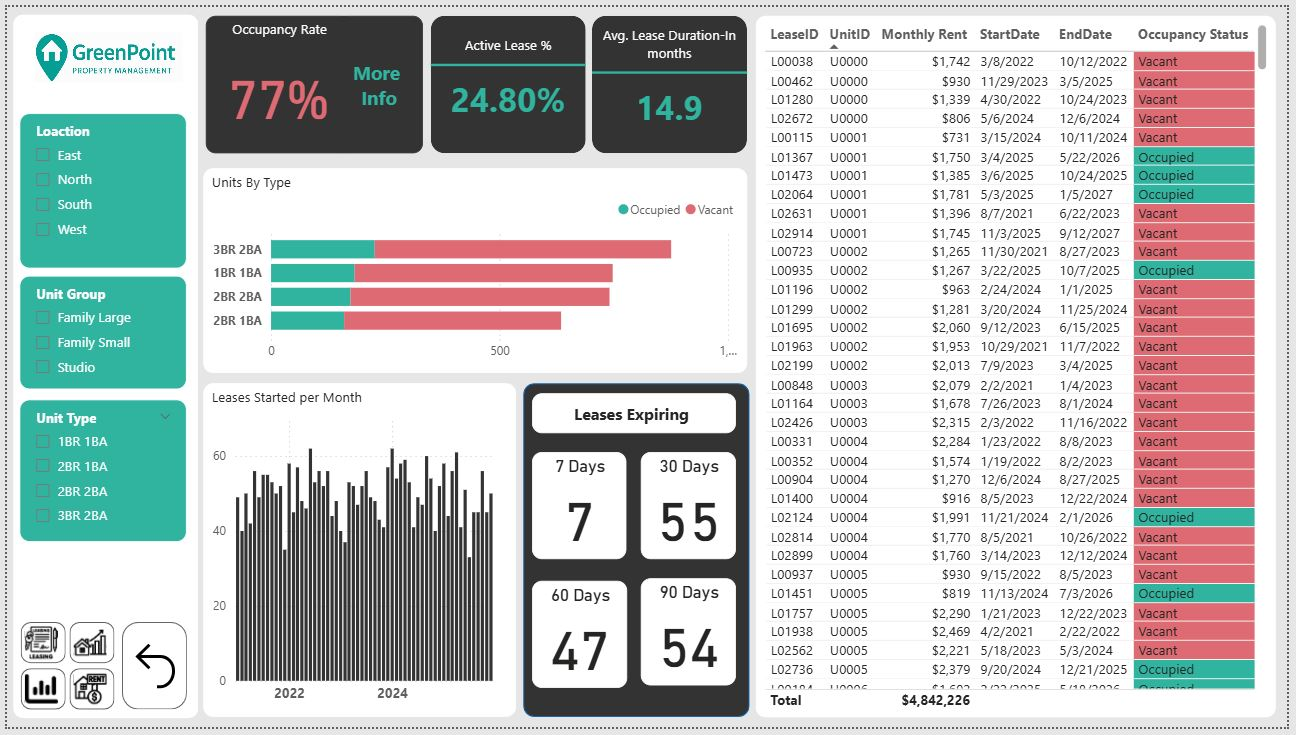

This screenshot's page, from the dashboard's own definition file:
{"tool":"powerbi","page":{"name":"Leasing Activity & Occupancy","canvas":[1280,720],"ordinal":2},"visuals":[{"type":"shape","box":[516.2,376.2,226.2,333.8],"z":0},{"type":"barChart","title":"Units By Type","fields":{"Category":["Units.UnitType"],"Y":["CountNonNull(Leases.Occupancy Status)"],"Series":["Leases.Occupancy Status"]},"box":[196.2,161.2,543.8,205],"z":1000},{"type":"tableEx","fields":{"Values":["Leases.LeaseID","Leases.UnitID","Sum(Leases.MonthlyRent)","Leases.StartDate","Leases.EndDate","Leases.Occupancy Status"]},"box":[748.8,8.8,520,701.2],"z":2000},{"type":"card","fields":{"Values":["Measures Table.InfoText"]},"box":[329.2,8.5,86.9,137.7],"z":3000},{"type":"clusteredColumnChart","title":"Leases Started per Month ","fields":{"Category":["DateTable.YearMonth"],"Y":["Measures Table.Leases Started Count"]},"box":[196.2,376.2,312.5,333.8],"z":4000},{"type":"shape","box":[585,8.8,155,137.5],"z":5000},{"type":"card","title":"Avg. Lease Duration-In months","fields":{"Values":["Measures Table.Average Lease Duration (Months)"]},"box":[585,18.8,155,115],"z":6000},{"type":"card","title":"30 Days","fields":{"Values":["Measures Table.Leases Expiring in 30 Days"]},"box":[634,445,95.4,106.9],"z":7000},{"type":"card","title":"7 Days","fields":{"Values":["Measures Table.Leases Expiring in 7 Days"]},"box":[525.5,445,94.6,106.9],"z":8000},{"type":"card","title":"90 Days","fields":{"Values":["Measures Table.Leases Expiring in 90 Days"]},"box":[634,571.2,95.4,106.9],"z":9000},{"type":"card","title":"60 Days","fields":{"Values":["Measures Table.Leases Expiring in 60 Days"]},"box":[525.5,574.2,95.4,106.9],"z":10000},{"type":"textbox","box":[525.5,385.8,203.8,40],"z":11000},{"type":"shape","title":"Left Nav. Background","box":[6.2,7.5,185,703.8],"z":13000},{"type":"slicer","fields":{"Values":["Units.Location"]},"box":[12.5,106.2,167.5,155],"z":14000},{"type":"slicer","fields":{"Values":["Units.UnitGroup"]},"box":[12.5,268.8,167.5,113.8],"z":15000},{"type":"actionButton","box":[115,615.2,65,87.5],"z":16000},{"type":"image","box":[22.5,20,157.5,60],"z":17000},{"type":"actionButton","box":[13.8,615.2,45,41.2],"z":18000},{"type":"actionButton","box":[62.5,615.2,45,41.2],"z":19000},{"type":"actionButton","box":[62.5,661.5,45,41.2],"z":20000},{"type":"actionButton","box":[13.8,661.5,45,41.2],"z":21000},{"type":"slicer","fields":{"Values":["Units.UnitType"]},"box":[12.5,392.5,167.5,142.5],"z":22000},{"type":"shape","box":[423.1,8.8,155,137.5],"z":23000},{"type":"card","title":"Active Lease %","fields":{"Values":["Measures Table.Active Lease %"]},"box":[423.8,28.8,155,97.5],"z":24000},{"type":"card","title":"Occupancy Rate","fields":{"Values":["Measures Table.Occupancy Rate"]},"box":[198.5,8.5,146.2,137.7],"z":25000}]}

Visuals, with their boxes in screenshot pixels (x1, y1, x2, y2), scaled from the page's 1280x720 canvas onto the 1296x735 screenshot:
shape: (left=523, top=384, right=752, bottom=725)
"Units By Type" barChart: (left=199, top=165, right=749, bottom=374)
tableEx - Leases.LeaseID x Leases.UnitID: (left=758, top=9, right=1285, bottom=725)
card - Measures Table.InfoText: (left=333, top=9, right=421, bottom=149)
"Leases Started per Month " clusteredColumnChart: (left=199, top=384, right=515, bottom=725)
shape: (left=592, top=9, right=749, bottom=149)
"Avg. Lease Duration-In months" card: (left=592, top=19, right=749, bottom=137)
"30 Days" card: (left=642, top=454, right=739, bottom=563)
"7 Days" card: (left=532, top=454, right=628, bottom=563)
"90 Days" card: (left=642, top=583, right=739, bottom=692)
"60 Days" card: (left=532, top=586, right=629, bottom=695)
textbox: (left=532, top=394, right=738, bottom=435)
"Left Nav. Background" shape: (left=6, top=8, right=194, bottom=726)
slicer - Units.Location: (left=13, top=108, right=182, bottom=267)
slicer - Units.UnitGroup: (left=13, top=274, right=182, bottom=391)
actionButton: (left=116, top=628, right=182, bottom=717)
image: (left=23, top=20, right=182, bottom=82)
actionButton: (left=14, top=628, right=60, bottom=670)
actionButton: (left=63, top=628, right=109, bottom=670)
actionButton: (left=63, top=675, right=109, bottom=717)
actionButton: (left=14, top=675, right=60, bottom=717)
slicer - Units.UnitType: (left=13, top=401, right=182, bottom=546)
shape: (left=428, top=9, right=585, bottom=149)
"Active Lease %" card: (left=429, top=29, right=586, bottom=129)
"Occupancy Rate" card: (left=201, top=9, right=349, bottom=149)
